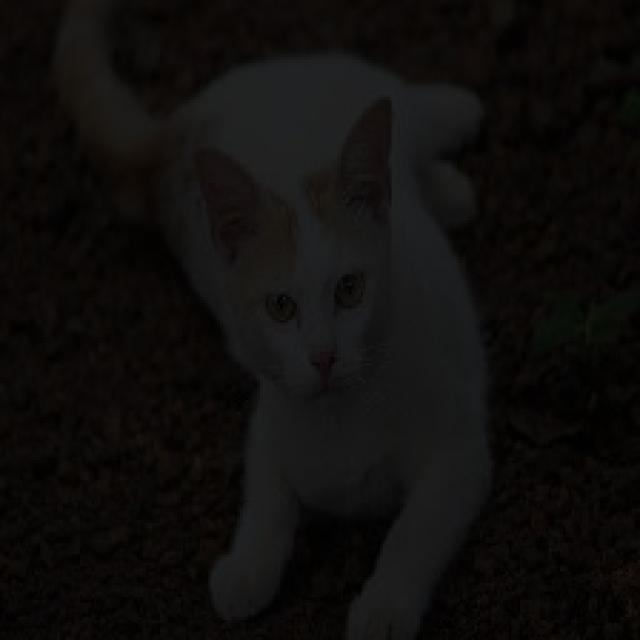bear: (90, 48, 546, 585)
